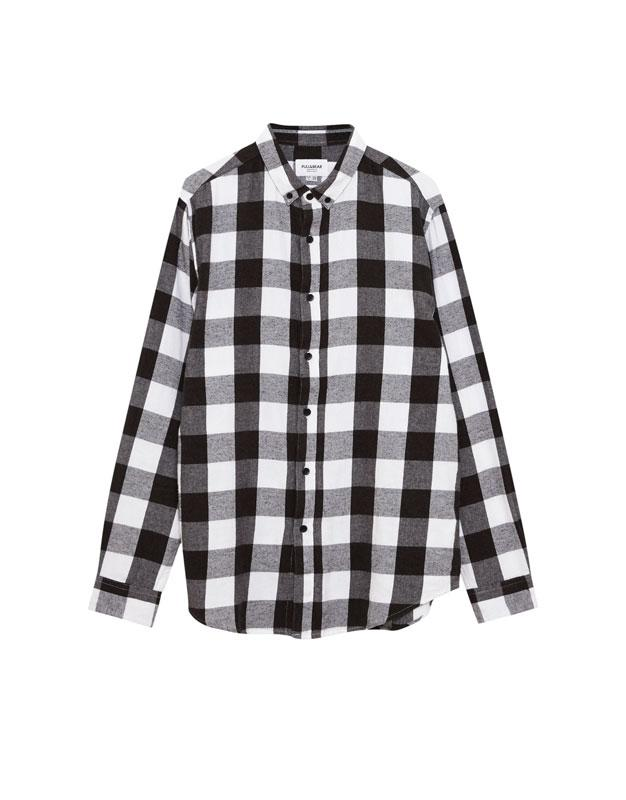teeshirt: (89, 117, 553, 707)
